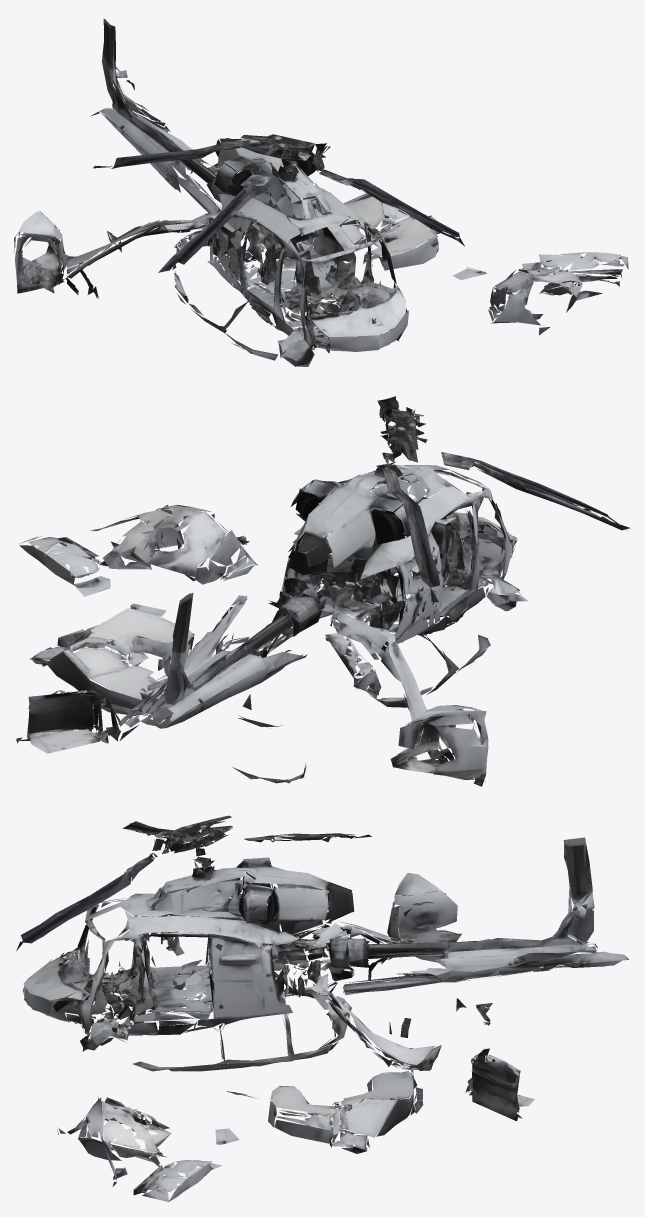
File: CrashedHelicopter.glb
3 renders of one model, top to bottom at view 1: azimuth 30°, elevation 25°; view 2: azimuth 150°, elevation 25°; view 3: azimuth 270°, elevation 25°, orthographic. The views are drawn at different scales.
Parts seen in each view (by area): view 1: Helicopter; view 2: Helicopter; view 3: Helicopter.
Part boxes in pixels (x1,y1,x2,y2): Helicopter: (14,18,628,366); Helicopter: (16,396,630,786); Helicopter: (16,815,629,1202).
Size of the model in its own units: 34.05 by 12.75 by 33.97.
1 material, 1 textured.
